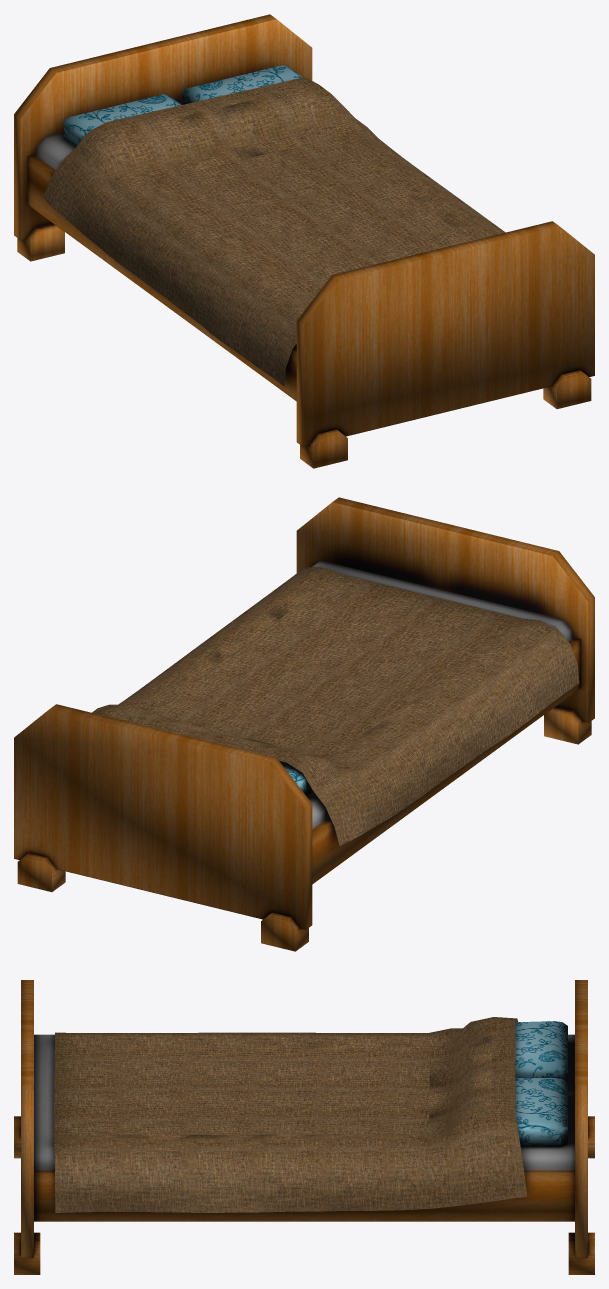
Rendered from bed.obj.
The picture shows the model from 3 angles, top to bottom: view 1: azimuth 30°, elevation 25°; view 2: azimuth 150°, elevation 25°; view 3: azimuth 270°, elevation 25°; orthographic projection. The views are drawn at different scales.
Visible parts, largest first — view 1: bed; view 2: bed; view 3: bed.
Boxes of the visible parts, bbox=[...] form: bed: bbox=[14, 14, 594, 468]; bed: bbox=[14, 497, 594, 951]; bed: bbox=[14, 980, 594, 1274].
Bounding box in the file's own units: 219 × 125 × 373.
Materials: 1 (1 with a texture image).
